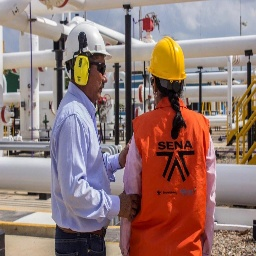helmet: (59, 23, 114, 66), (144, 36, 189, 84)
no-vest: (130, 107, 213, 256), (53, 95, 117, 233)
person: (128, 39, 207, 256), (55, 20, 120, 256)
